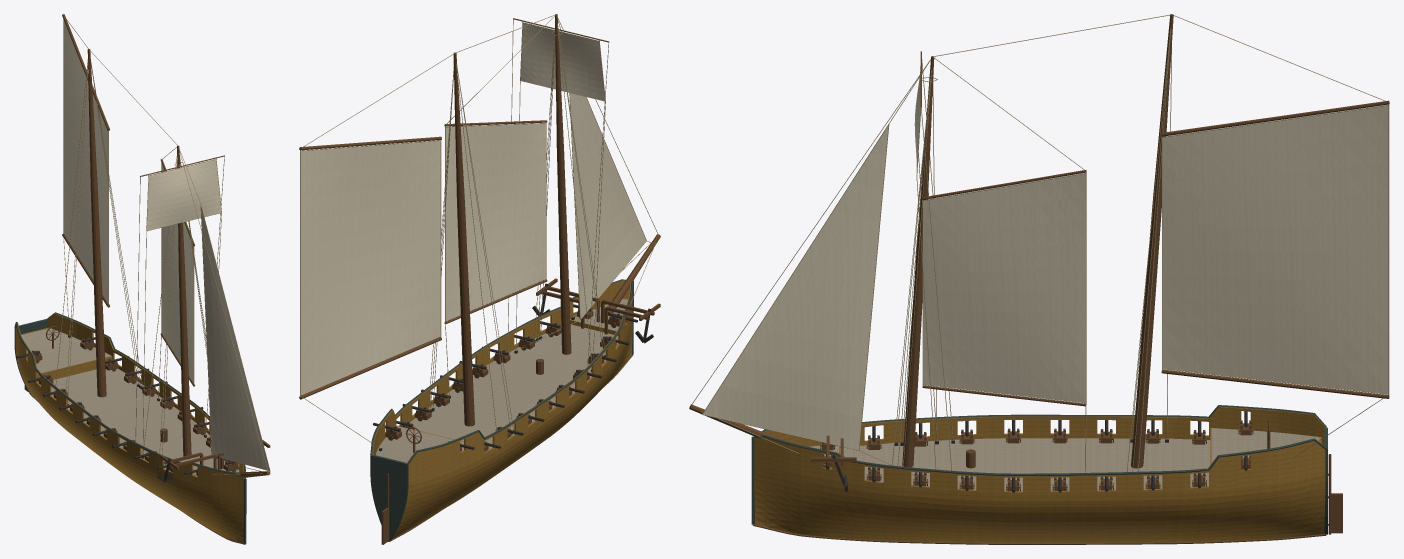
3 renders of one model, left to right at view 1: azimuth 30°, elevation 25°; view 2: azimuth 150°, elevation 25°; view 3: azimuth 270°, elevation 25°, orthographic. The views are drawn at different scales.
Parts seen in each view (by area): view 1: lod2_hull_shell_starboard, lod2_main_gaff_00, lod2_jib_00, lod2_main_deck, lod2_fore_square_00, lod2_fore_gaff_01, lod2_main, lod2_castle_deck_0, lod2_hull_shell_port, lod2_fore, lod2_gunwale_starboard, lod2_castle_bulkhead_0_1 (+10 smaller); view 2: lod2_main_gaff_00, lod2_fore_gaff_01, lod2_hull_shell_starboard, lod2_jib_00, lod2_main_deck, lod2_fore_square_00, lod2_main, lod2_hull_shell_port, lod2_fore, lod2_stern_closure, lod2_castle_deck_0, lod2_gunwale_starboard (+5 smaller); view 3: lod2_main_gaff_00, lod2_hull_shell_port, lod2_fore_gaff_01, lod2_jib_00, lod2_main_deck, lod2_hull_shell_starboard, lod2_main, lod2_fore, lod2_castle_deck_0, lod2_gunwale_port, lod2_keel, lod2_gunwale_starboard (+2 smaller).
Boxes of the visible parts, bbox=[...] form: lod2_hull_shell_starboard: bbox=[15, 322, 244, 542]; lod2_main_gaff_00: bbox=[63, 20, 108, 303]; lod2_jib_00: bbox=[201, 206, 269, 470]; lod2_main_deck: bbox=[40, 368, 224, 474]; lod2_fore_square_00: bbox=[146, 159, 221, 230]; lod2_fore_gaff_01: bbox=[161, 163, 193, 382]; lod2_main: bbox=[87, 49, 106, 397]; lod2_castle_deck_0: bbox=[21, 328, 111, 373]; lod2_hull_shell_port: bbox=[46, 313, 245, 478]; lod2_fore: bbox=[177, 145, 191, 458]; lod2_gunwale_starboard: bbox=[14, 322, 244, 478]; lod2_castle_bulkhead_0_1: bbox=[37, 356, 112, 382]; lod2_main_gaff_00: bbox=[300, 141, 440, 395]; lod2_fore_gaff_01: bbox=[445, 123, 546, 320]; lod2_hull_shell_starboard: bbox=[392, 282, 632, 538]; lod2_jib_00: bbox=[570, 93, 646, 318]; lod2_main_deck: bbox=[409, 324, 618, 450]; lod2_fore_square_00: bbox=[520, 23, 604, 100]; lod2_main: bbox=[453, 52, 474, 426]; lod2_hull_shell_port: bbox=[372, 280, 630, 455]; lod2_fore: bbox=[555, 14, 571, 354]; lod2_stern_closure: bbox=[370, 454, 408, 541]; lod2_castle_deck_0: bbox=[376, 425, 463, 462]; lod2_gunwale_starboard: bbox=[407, 281, 633, 464]; lod2_main_gaff_00: bbox=[1162, 105, 1388, 394]; lod2_hull_shell_port: bbox=[754, 437, 1325, 543]; lod2_fore_gaff_01: bbox=[923, 173, 1085, 402]; lod2_jib_00: bbox=[703, 125, 888, 449]; lod2_main_deck: bbox=[840, 438, 1210, 491]; lod2_hull_shell_starboard: bbox=[753, 406, 1326, 447]; lod2_main: bbox=[1131, 14, 1173, 468]; lod2_fore: bbox=[902, 56, 934, 467]; lod2_castle_deck_0: bbox=[1211, 428, 1319, 463]; lod2_gunwale_port: bbox=[753, 435, 1326, 475]; lod2_keel: bbox=[752, 523, 1326, 544]; lod2_gunwale_starboard: bbox=[753, 405, 1326, 436].
Bounding box in the file's own units: 9.17 × 31.16 × 37.29.
Materials: 7 (7 with a texture image).
